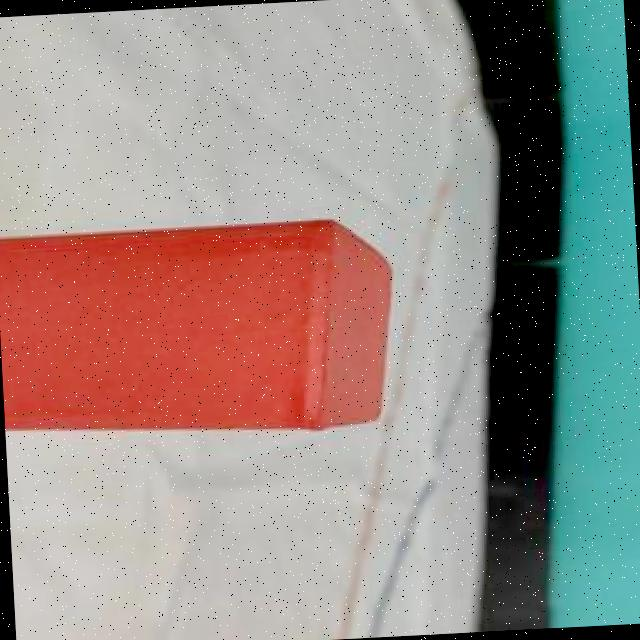redbox: (0, 215, 406, 444)
